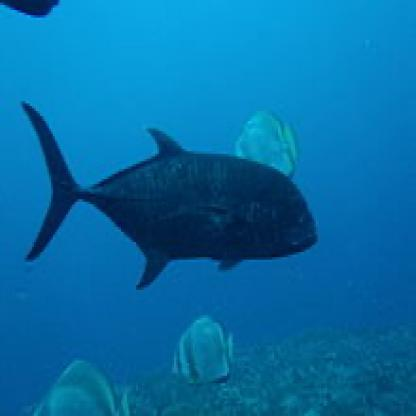jack: (18, 95, 319, 299)
spade: (170, 306, 240, 387)
